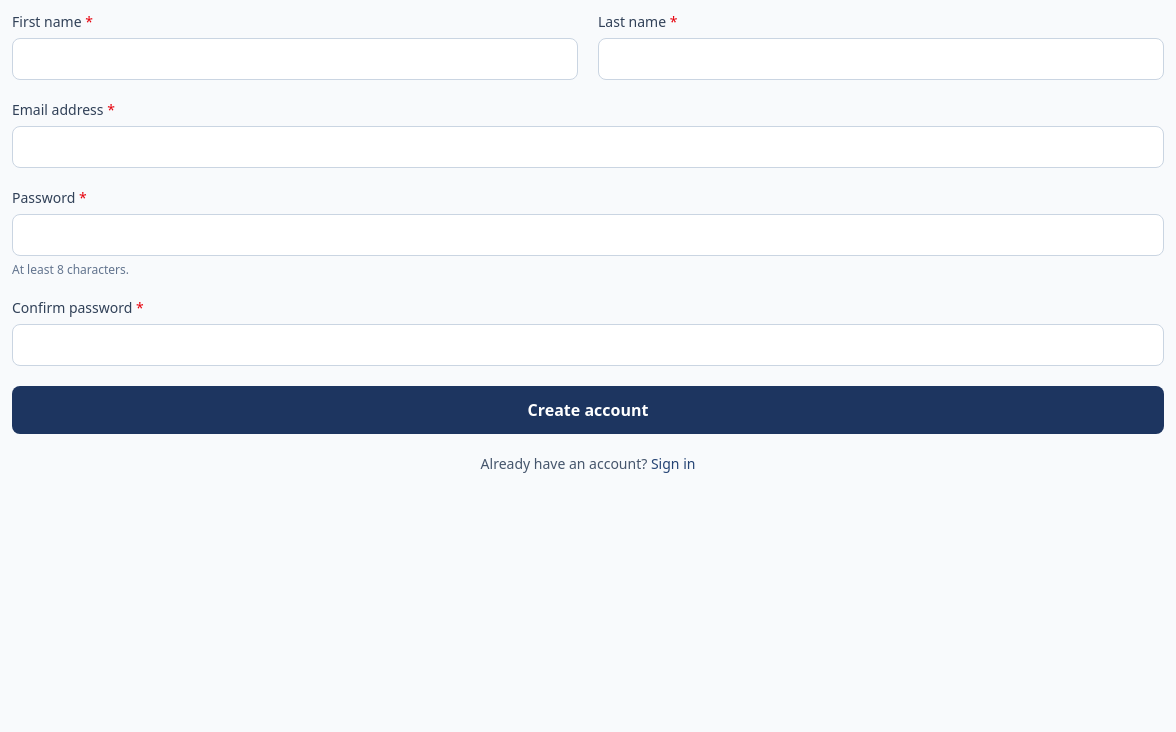
Test: SignupForm › shows a safe message when Supabase rejects the signup
Type "Ada" into the field labelled "First name *".
click(295, 59); type("Ada")  # box [12,38,578,80]
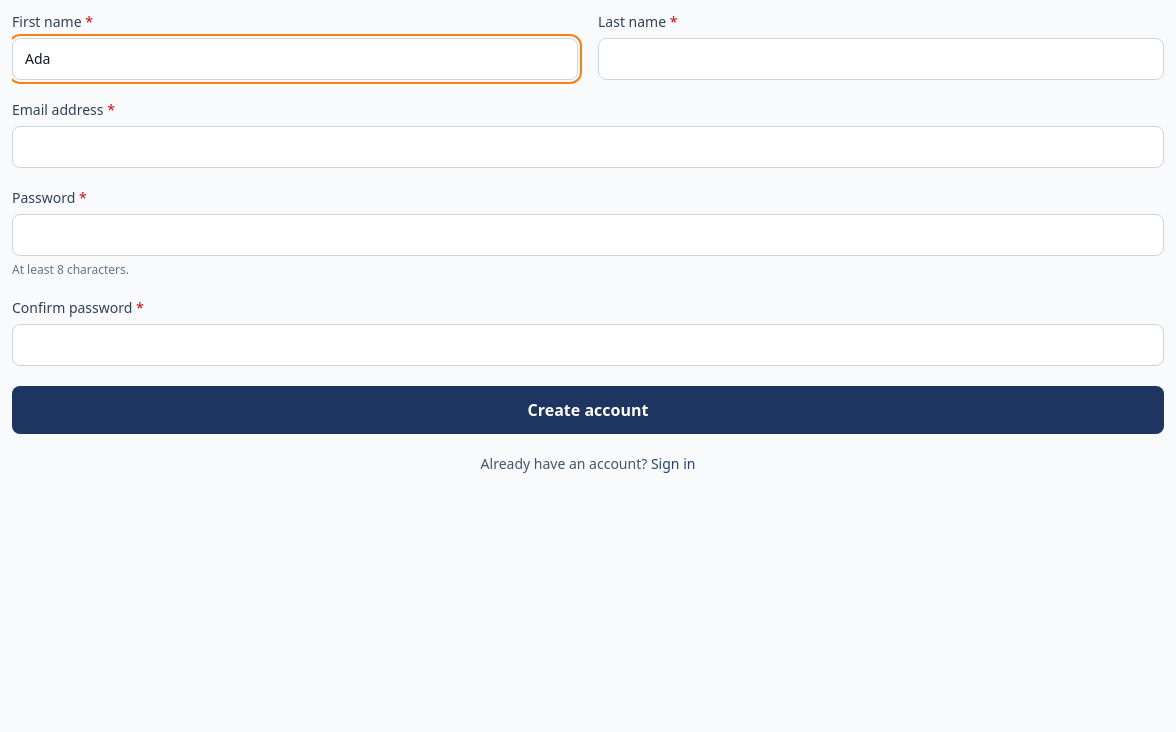
Type "Alpha" into the field labelled "Last name *".
click(881, 59); type("Alpha")  # box [598,38,1164,80]
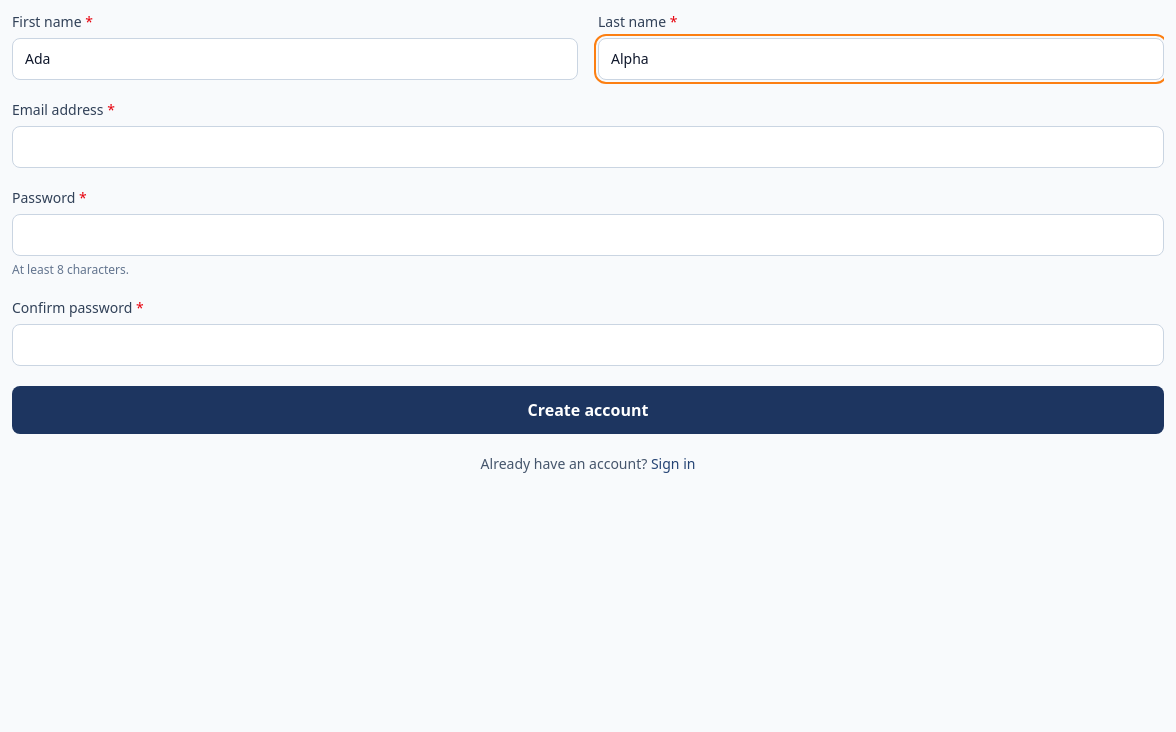
Type "ada@example.com" into the field labelled "Email address *".
click(588, 147); type("ada@example.com")  # box [12,126,1164,168]
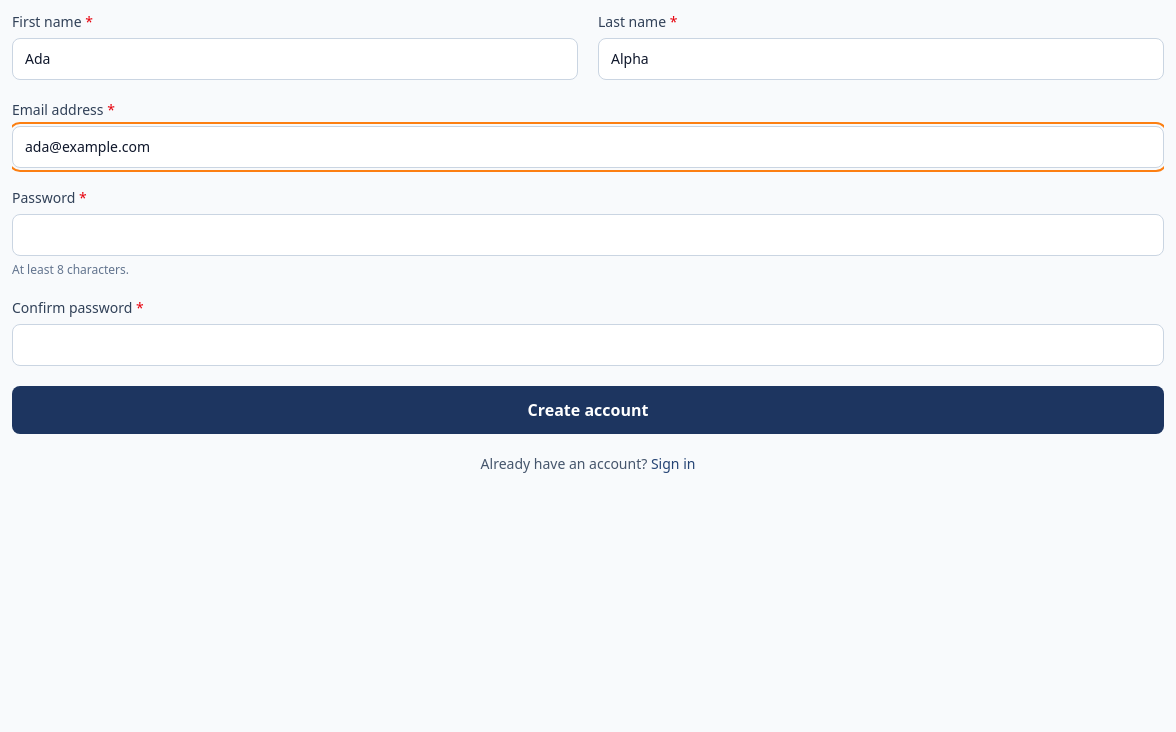
Type "correct-horse" into the password field labelled "Password *".
click(588, 235); type("correct-horse")  # box [12,214,1164,256]
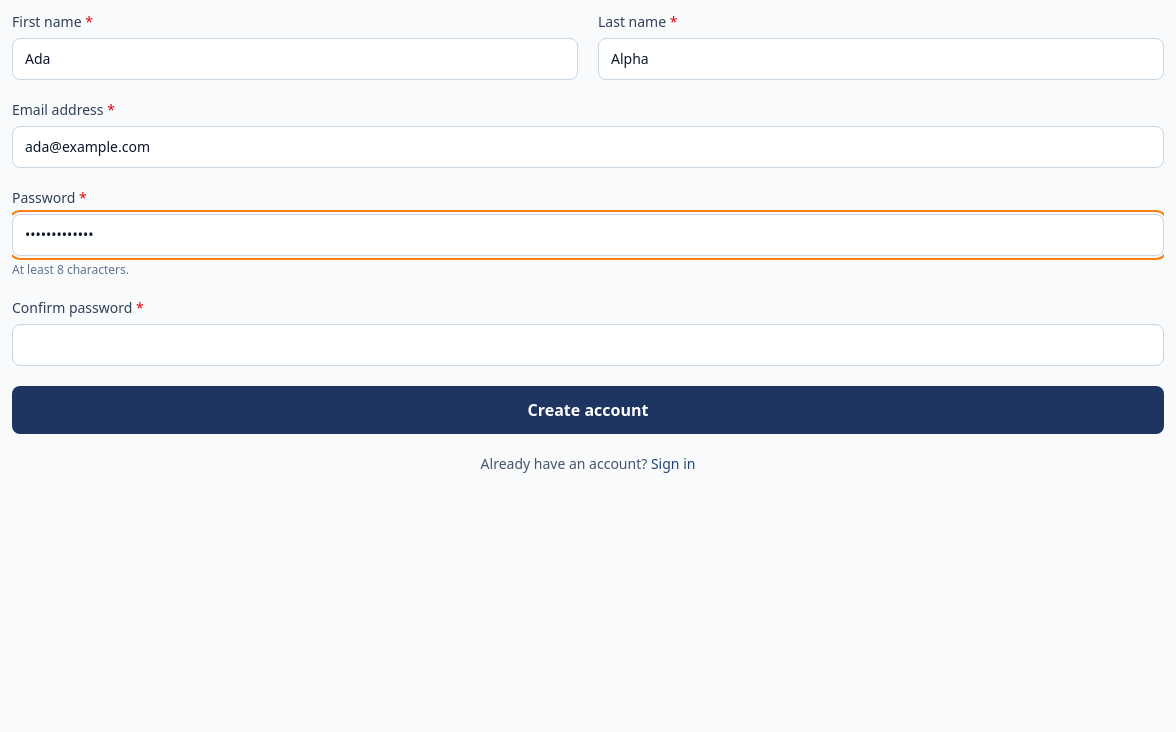
Type "correct-horse" into the password field labelled "Confirm password *".
click(588, 345); type("correct-horse")  # box [12,324,1164,366]
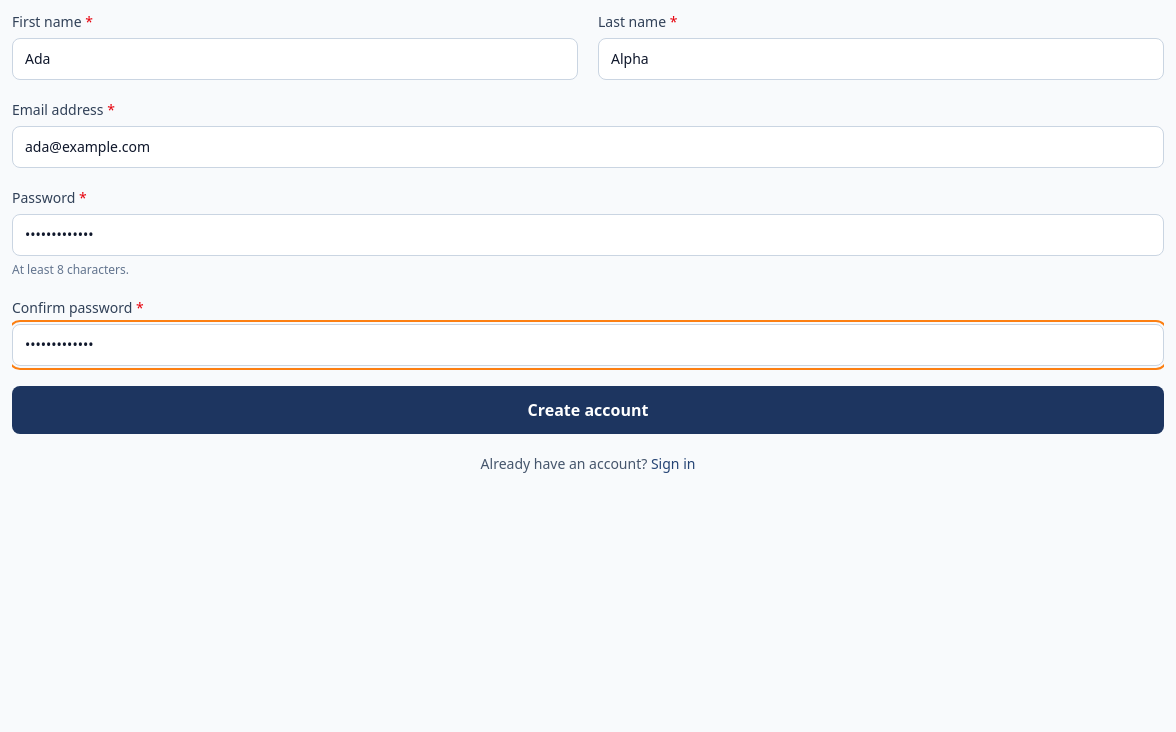
Click the button "Create account".
click(588, 410)  # box [12,386,1164,434]
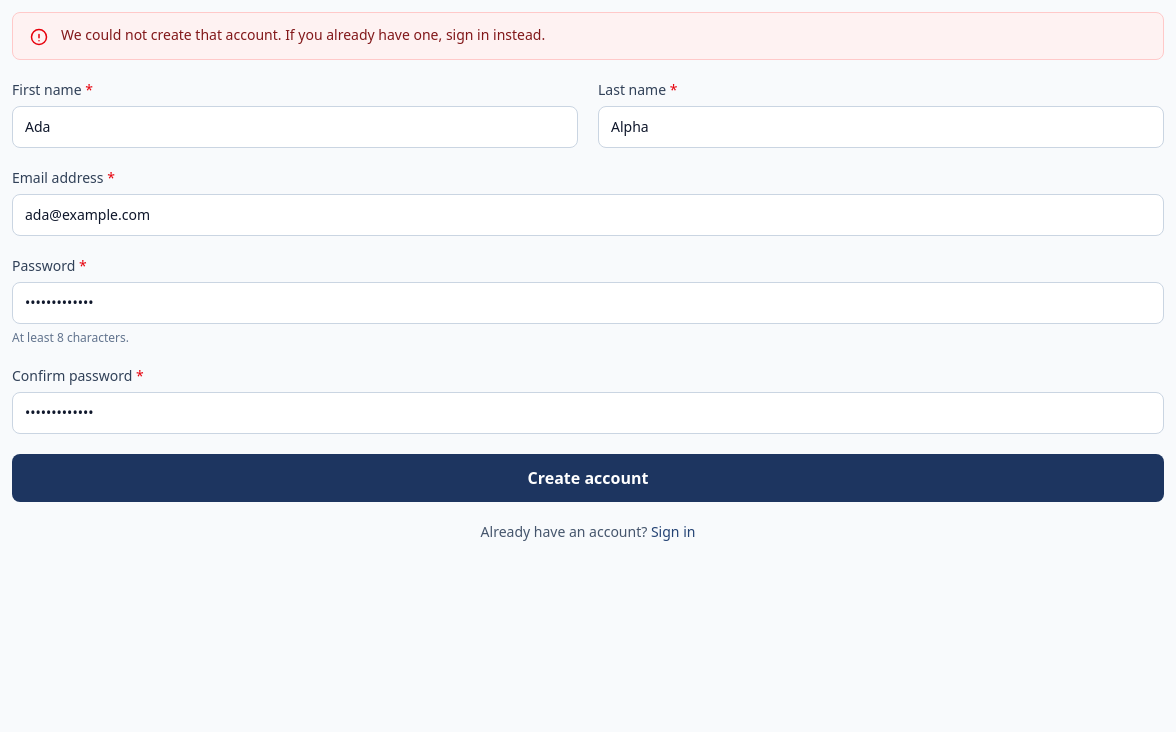
Expected: the message shows "could not create that account", [61,25,545,44]
